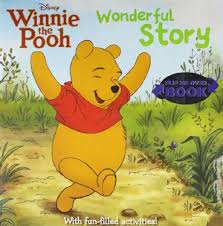Winnie: (58, 38, 132, 128)
